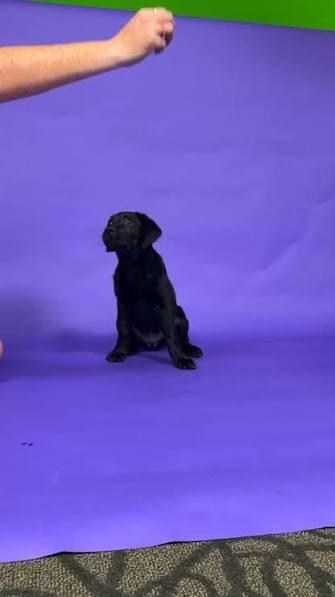non-dog: (0, 6, 177, 106)
puppy-dog: (99, 211, 204, 371)
